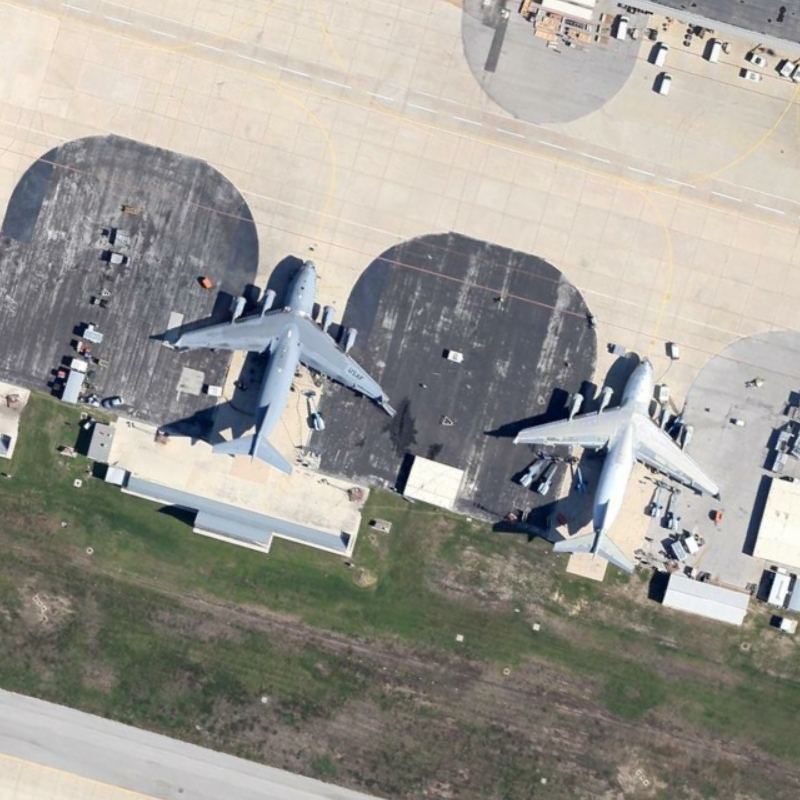A3: (163, 249, 400, 482), (504, 353, 731, 578)
